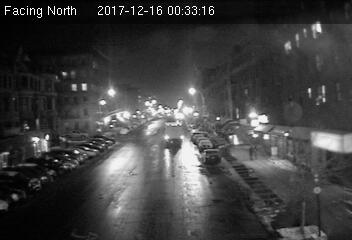car: (202, 149, 222, 165)
pedestrian: (248, 144, 254, 162)
truck: (163, 122, 185, 146)
